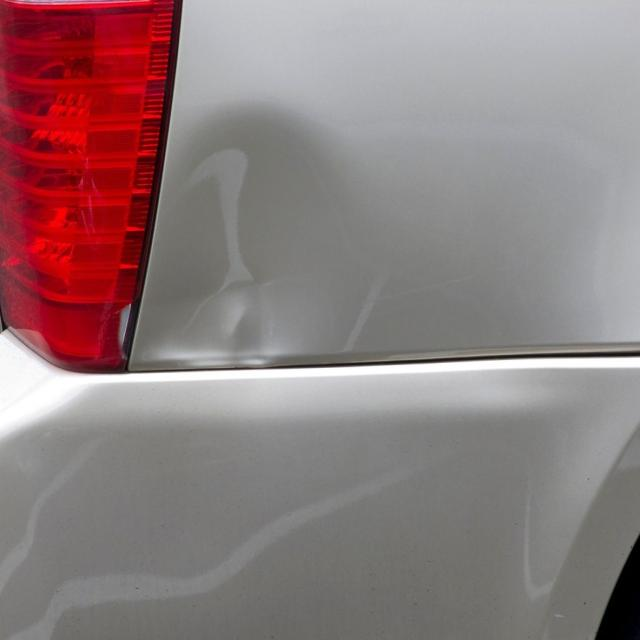dent: (137, 87, 369, 369)
